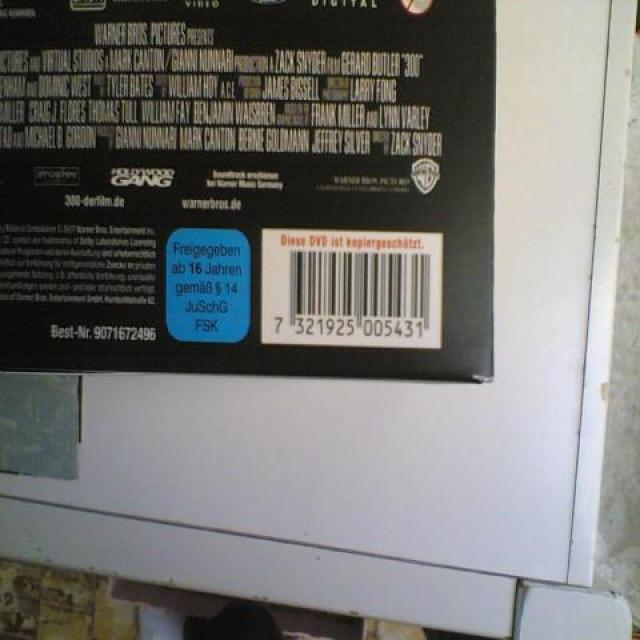Barcode: (262, 224, 443, 344)
